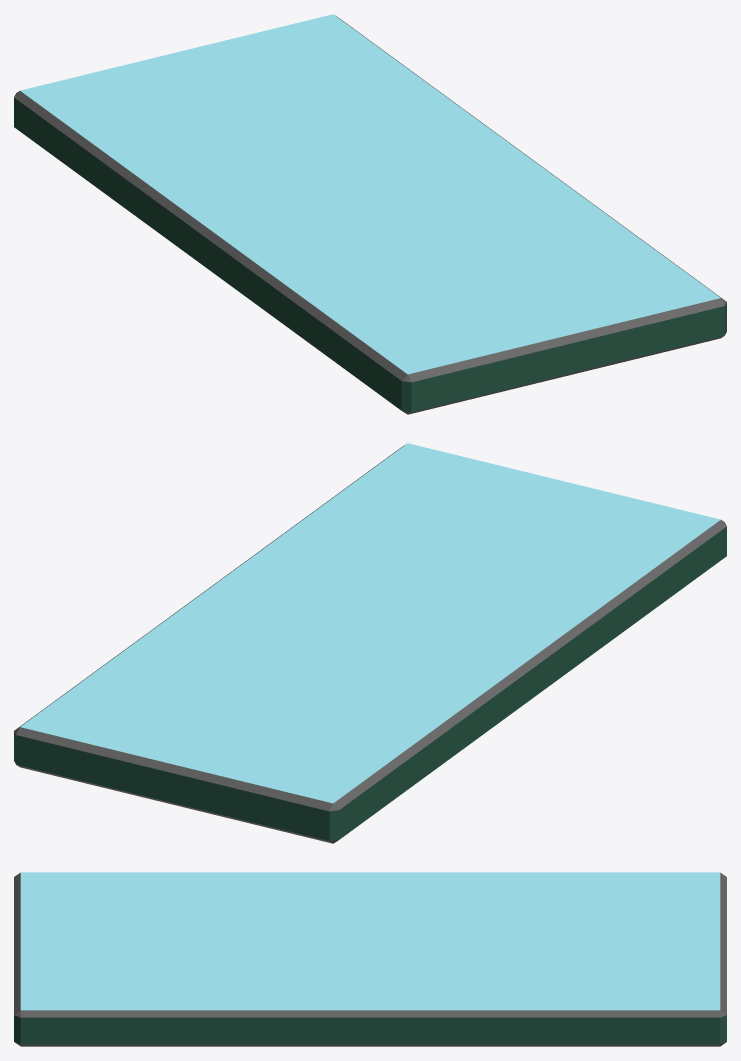
Rendered from Phone01.fbx.
The picture shows the model from 3 angles, top to bottom: view 1: azimuth 30°, elevation 25°; view 2: azimuth 150°, elevation 25°; view 3: azimuth 270°, elevation 25°; orthographic projection. The views are drawn at different scales.
Parts seen in each view (by area): view 1: Phone01; view 2: Phone01; view 3: Phone01.
Part boxes in pixels (x1=…): Phone01: x1=14, y1=14, x2=726, y2=414; Phone01: x1=14, y1=443, x2=726, y2=843; Phone01: x1=14, y1=872, x2=726, y2=1046.
Size of the model in its own units: 0.076 by 0.16 by 0.009.
